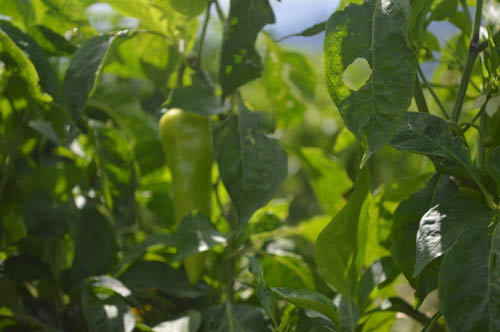ChiliPepper: (160, 112, 214, 286)
